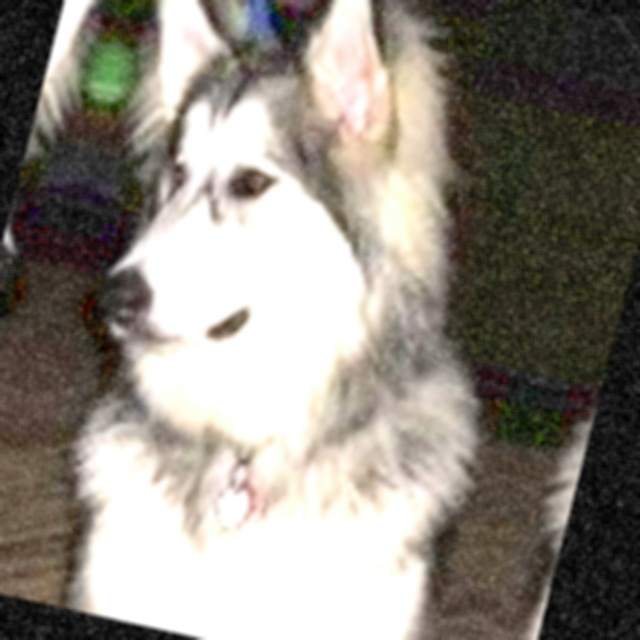dog: (0, 0, 581, 640), (0, 0, 140, 589), (497, 74, 640, 640)
